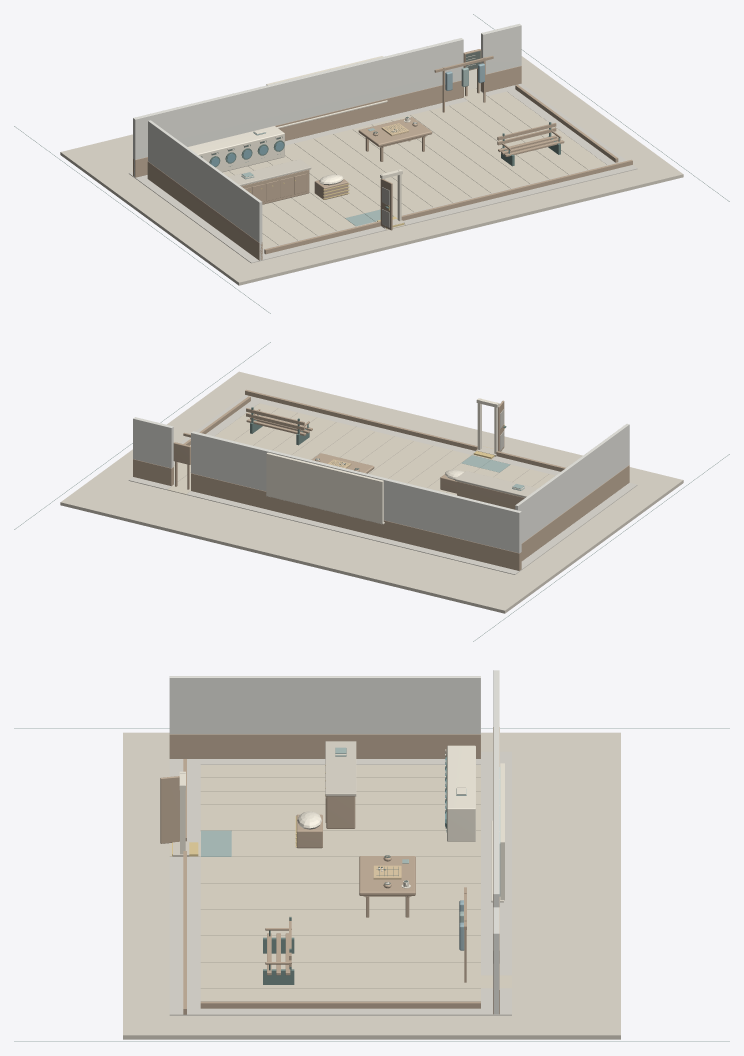
Rendered from room.glb.
3 views of the same model, one above another, from view 1: azimuth 30°, elevation 25°; view 2: azimuth 150°, elevation 25°; view 3: azimuth 270°, elevation 25° (orthographic). The views are drawn at different scales.
Parts seen in each view (by area): view 1: Campaign_paving, Campaign_plaster, Campaign_stone, Campaign_wood, Campaign_floor, Campaign_cream, Campaign_metal, Campaign_cloth; view 2: Campaign_stone, Campaign_plaster, Campaign_wood, Campaign_paving, Campaign_cream, Campaign_floor, Campaign_metal, Campaign_cloth; view 3: Campaign_stone, Campaign_paving, Campaign_plaster, Campaign_wood, Campaign_floor, Campaign_cream, Campaign_metal, Campaign_cloth.
Boxes of the visible parts, left/top/right/bottom form: Campaign_paving: left=222, top=88, right=606, bottom=248; Campaign_plaster: left=133, top=23, right=521, bottom=260; Campaign_stone: left=60, top=56, right=683, bottom=285; Campaign_wood: left=133, top=49, right=632, bottom=260; Campaign_floor: left=128, top=83, right=637, bottom=263; Campaign_cream: left=188, top=55, right=475, bottom=221; Campaign_metal: left=14, top=14, right=729, bottom=313; Campaign_cloth: left=241, top=67, right=468, bottom=226; Campaign_stone: left=60, top=371, right=683, bottom=613; Campaign_plaster: left=133, top=417, right=629, bottom=553; Campaign_wood: left=133, top=389, right=629, bottom=570; Campaign_paving: left=167, top=403, right=555, bottom=495; Campaign_cream: left=266, top=398, right=524, bottom=524; Campaign_floor: left=128, top=390, right=637, bottom=574; Campaign_metal: left=14, top=342, right=729, bottom=641; Campaign_cloth: left=461, top=455, right=524, bottom=490; Campaign_stone: left=123, top=732, right=620, bottom=1039; Campaign_paving: left=169, top=765, right=511, bottom=1001; Campaign_plaster: left=169, top=670, right=499, bottom=1014; Campaign_wood: left=160, top=727, right=499, bottom=1014; Campaign_floor: left=169, top=751, right=511, bottom=1015; Campaign_cream: left=179, top=745, right=504, bottom=902; Campaign_metal: left=14, top=728, right=729, bottom=1041; Campaign_cloth: left=201, top=747, right=466, bottom=923.
Size of what is drawn, in the model's own units: 19.01 by 2.45 by 18.4.
